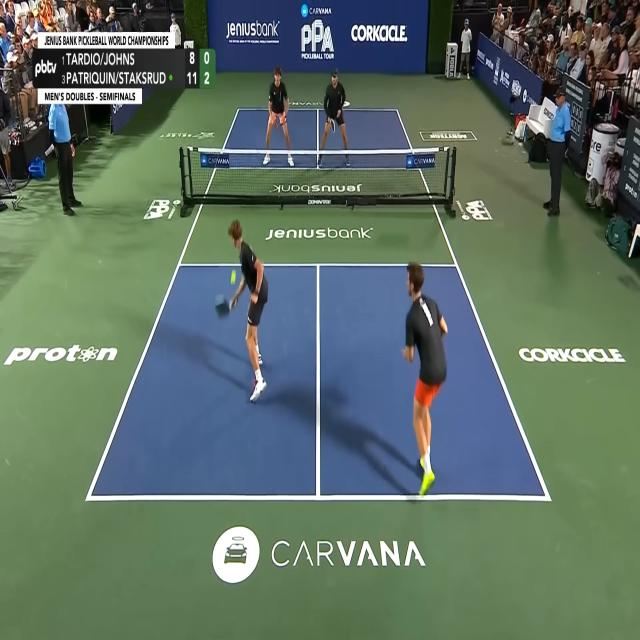ball: (230, 270, 236, 286)
